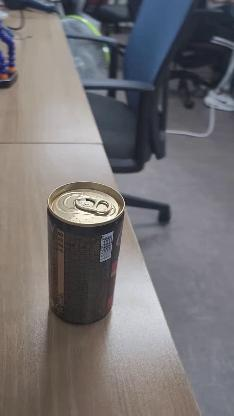Can: (48, 177, 124, 334)
